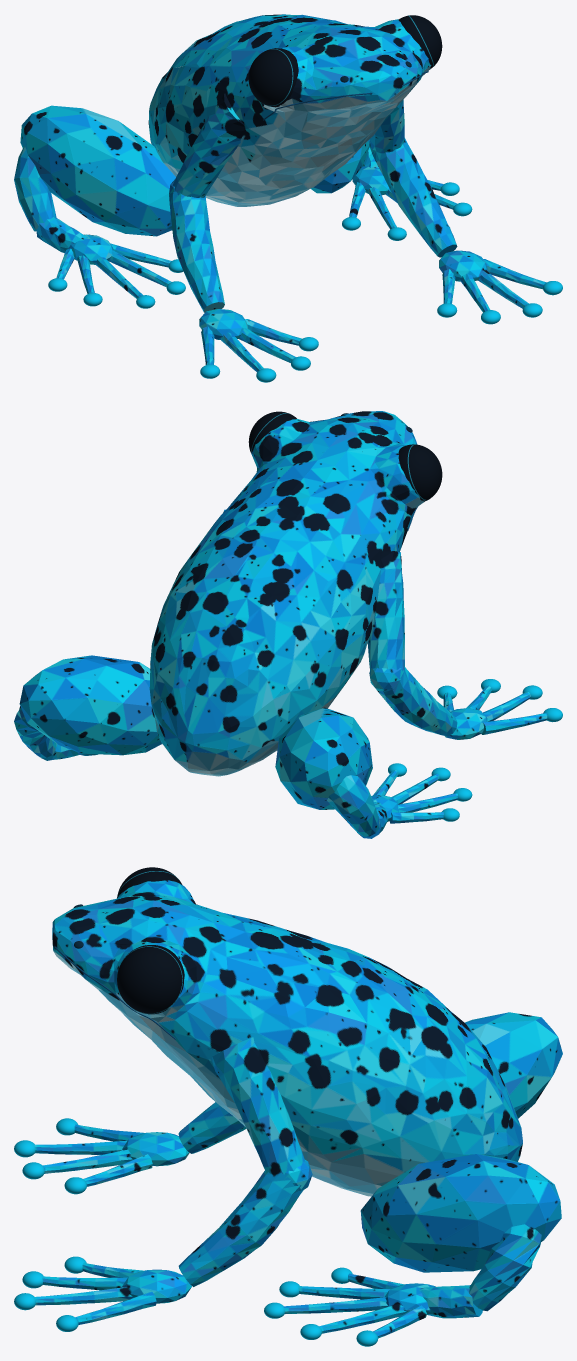
The model's file is scalpless-frog.glb.
The picture shows the model from 3 angles, top to bottom: view 1: azimuth 30°, elevation 25°; view 2: azimuth 150°, elevation 25°; view 3: azimuth 270°, elevation 25°; orthographic projection. The views are drawn at different scales.
Visible parts, largest first — view 1: Frog • continuous sculpted head, throat and torso, R • broad folded hind thigh, L • tapered forearm, R • tapered forearm, R • sculpted upper foreleg, R • glossy spherical eye, R • folded hind shin, L • glossy spherical eye, L • sculpted upper foreleg, L • front palm, R • front palm, L • broad folded hind thigh (+11 smaller); view 2: Frog • continuous sculpted head, throat and torso, L • broad folded hind thigh, R • broad folded hind thigh, R • sculpted upper foreleg, R • tapered forearm, R • folded hind shin, R • glossy spherical eye, L • folded hind shin, R • front palm, L • glossy spherical eye, R • front finger 4, R • elbow (+2 smaller); view 3: Frog • continuous sculpted head, throat and torso, L • broad folded hind thigh, L • sculpted upper foreleg, R • broad folded hind thigh, L • tapered forearm, L • glossy spherical eye, L • folded hind shin, R • tapered forearm, L • front palm, R • front palm, L • long hind ankle, L • front finger 3 (+12 smaller).
Part boxes in pixels (x1=…): Frog • continuous sculpted head, throat and torso: x1=148, y1=14, x2=431, y2=206; R • broad folded hind thigh: x1=20, y1=105, x2=175, y2=236; L • tapered forearm: x1=372, y1=138, x2=457, y2=257; R • tapered forearm: x1=169, y1=191, x2=224, y2=312; R • sculpted upper foreleg: x1=173, y1=93, x2=244, y2=197; R • glossy spherical eye: x1=248, y1=48, x2=298, y2=107; R • folded hind shin: x1=14, y1=146, x2=56, y2=231; L • glossy spherical eye: x1=398, y1=15, x2=442, y2=68; L • sculpted upper foreleg: x1=369, y1=100, x2=404, y2=153; L • front palm: x1=439, y1=250, x2=487, y2=281; R • front palm: x1=199, y1=309, x2=247, y2=339; L • broad folded hind thigh: x1=311, y1=139, x2=369, y2=193; Frog • continuous sculpted head, throat and torso: x1=149, y1=411, x2=424, y2=776; L • broad folded hind thigh: x1=19, y1=655, x2=161, y2=755; R • broad folded hind thigh: x1=275, y1=707, x2=372, y2=809; R • sculpted upper foreleg: x1=367, y1=551, x2=404, y2=670; R • tapered forearm: x1=375, y1=667, x2=457, y2=736; R • folded hind shin: x1=327, y1=775, x2=379, y2=836; R • glossy spherical eye: x1=398, y1=444, x2=442, y2=501; L • folded hind shin: x1=14, y1=706, x2=56, y2=757; R • front palm: x1=444, y1=708, x2=487, y2=739; L • glossy spherical eye: x1=248, y1=411, x2=296, y2=452; R • front finger 4: x1=481, y1=713, x2=547, y2=734; R • elbow: x1=369, y1=667, x2=405, y2=691; Frog • continuous sculpted head, throat and torso: x1=52, y1=880, x2=522, y2=1196; L • broad folded hind thigh: x1=360, y1=1154, x2=561, y2=1272; L • sculpted upper foreleg: x1=210, y1=1037, x2=304, y2=1174; R • broad folded hind thigh: x1=465, y1=1012, x2=562, y2=1118; L • tapered forearm: x1=178, y1=1171, x2=304, y2=1286; L • glossy spherical eye: x1=117, y1=945, x2=184, y2=1014; L • folded hind shin: x1=469, y1=1224, x2=541, y2=1311; R • tapered forearm: x1=178, y1=1102, x2=246, y2=1153; L • front palm: x1=122, y1=1269, x2=191, y2=1303; R • front palm: x1=122, y1=1132, x2=189, y2=1166; L • long hind ankle: x1=419, y1=1285, x2=482, y2=1318; L • front finger 3: x1=34, y1=1287, x2=133, y2=1305.
Size of the model in its own units: 3.96 by 2.56 by 3.92.
Materials: 6 (1 with a texture image).
